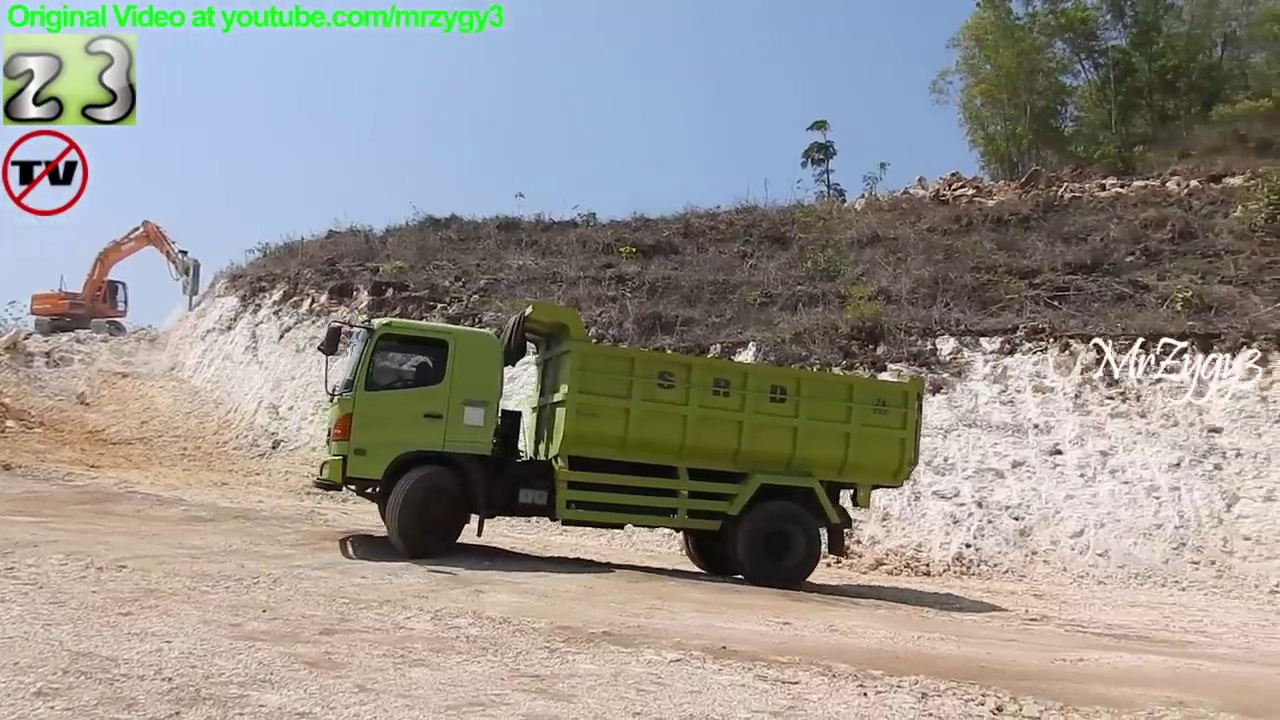excavator breaker: (26, 216, 206, 343)
truck: (309, 295, 931, 595)
